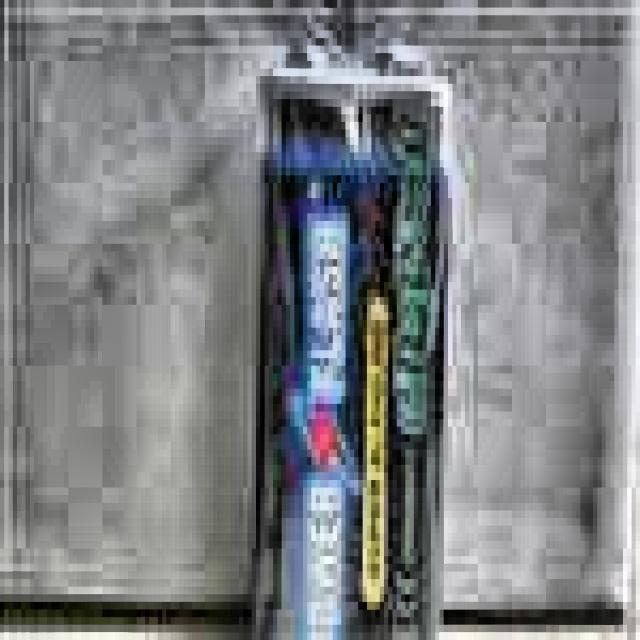battery: (255, 83, 443, 637)
